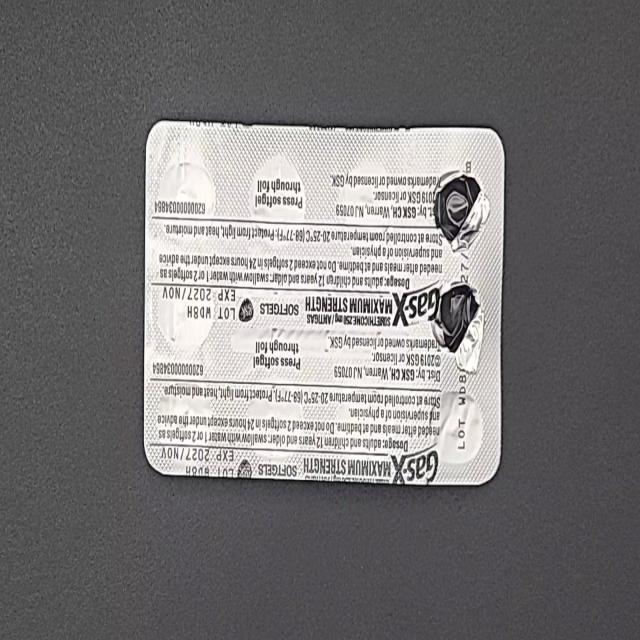defect: (429, 278, 486, 379), (431, 167, 492, 254)
